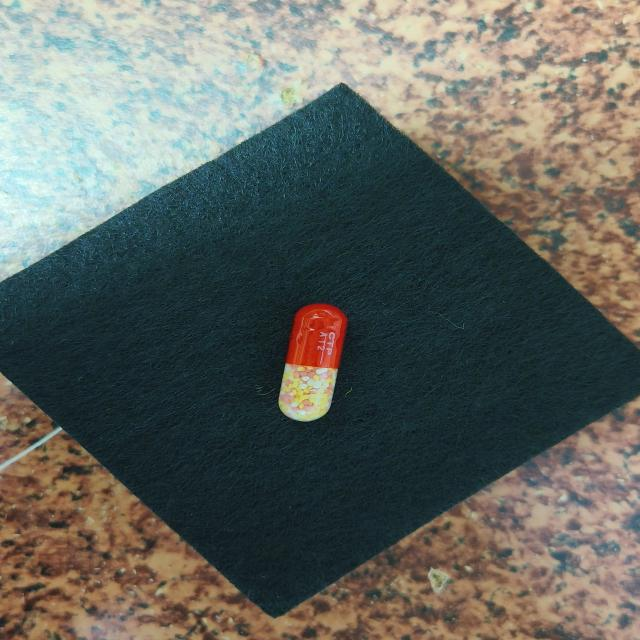Intact Capsule: (279, 303, 348, 421)
